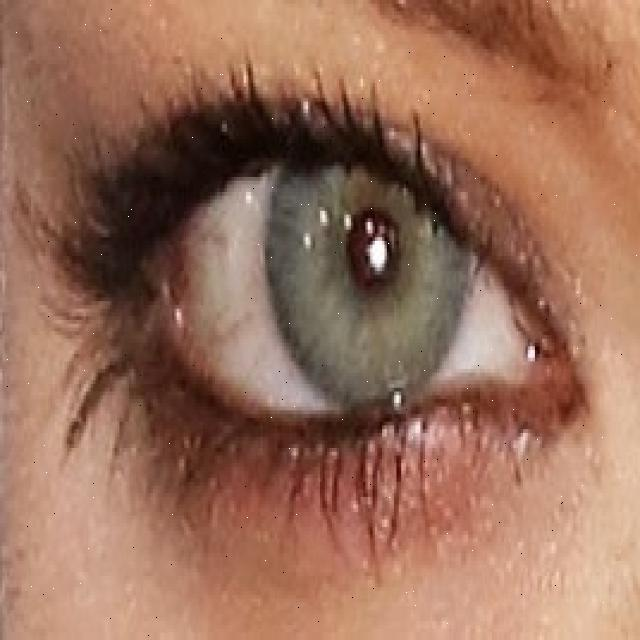Normal: (264, 102, 472, 431)
